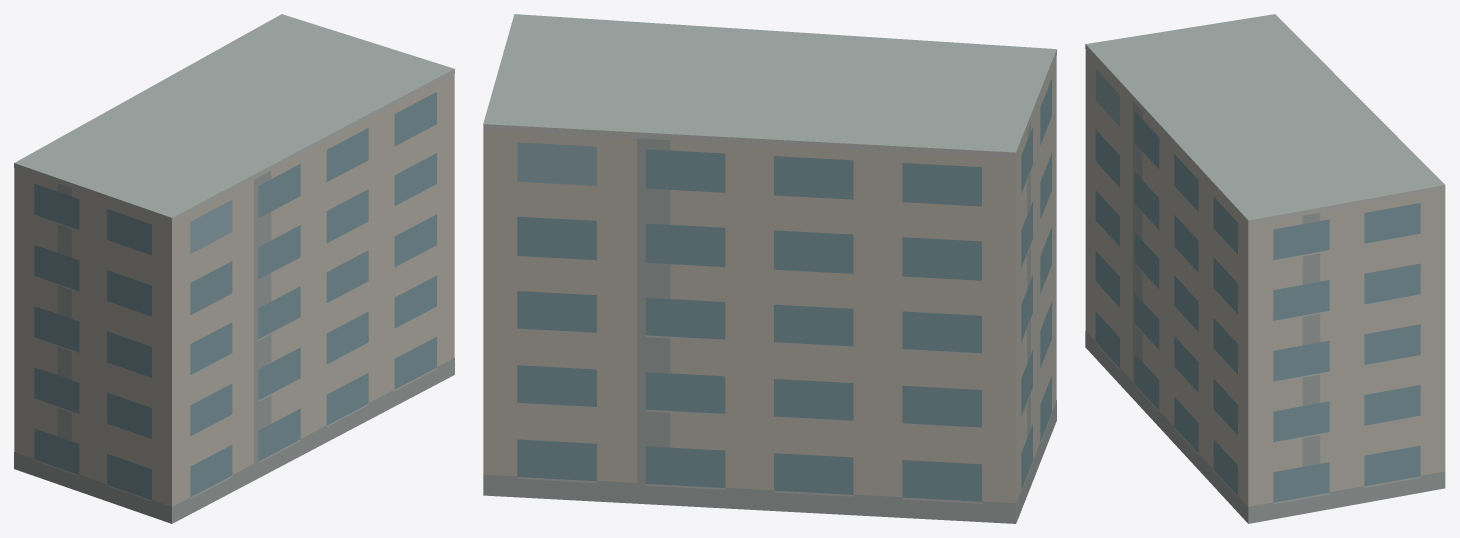
The model's file is survey-upis-33028364.glb.
3 renders of one model, left to right at view 1: azimuth 30°, elevation 25°; view 2: azimuth 150°, elevation 25°; view 3: azimuth 270°, elevation 25°, orthographic. The views are drawn at different scales.
Parts seen in each view (by area): view 1: survey-upis-33028364.tmp; view 2: survey-upis-33028364.tmp; view 3: survey-upis-33028364.tmp.
Part boxes in pixels (x1=…): survey-upis-33028364.tmp: x1=14, y1=14, x2=454, y2=523; survey-upis-33028364.tmp: x1=483, y1=14, x2=1056, y2=523; survey-upis-33028364.tmp: x1=1085, y1=14, x2=1445, y2=523.
Bounding box in the file's own units: 21.33 × 14.6 × 15.7.
